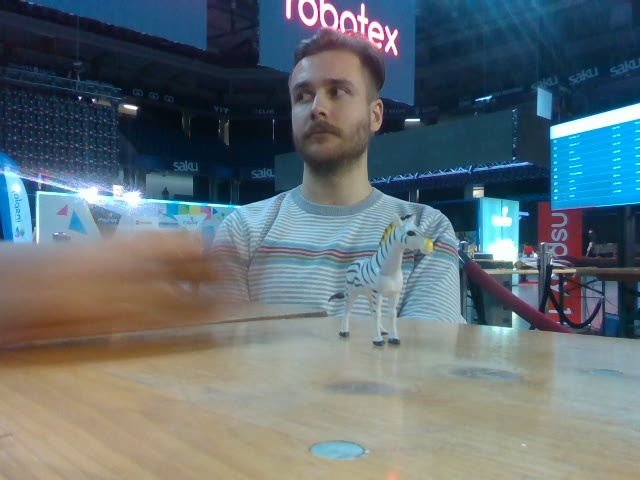toy: (329, 211, 434, 346)
